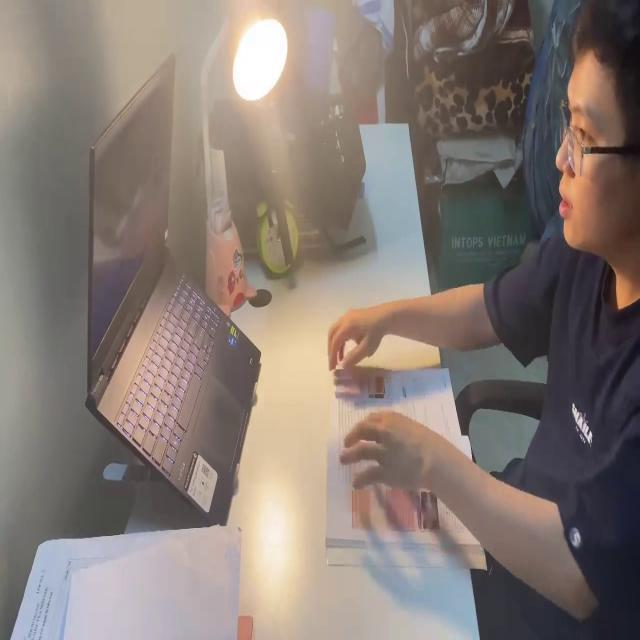book: (322, 346, 492, 570), (1, 526, 252, 640)
laptop: (74, 40, 262, 523)
student: (326, 0, 640, 640)
